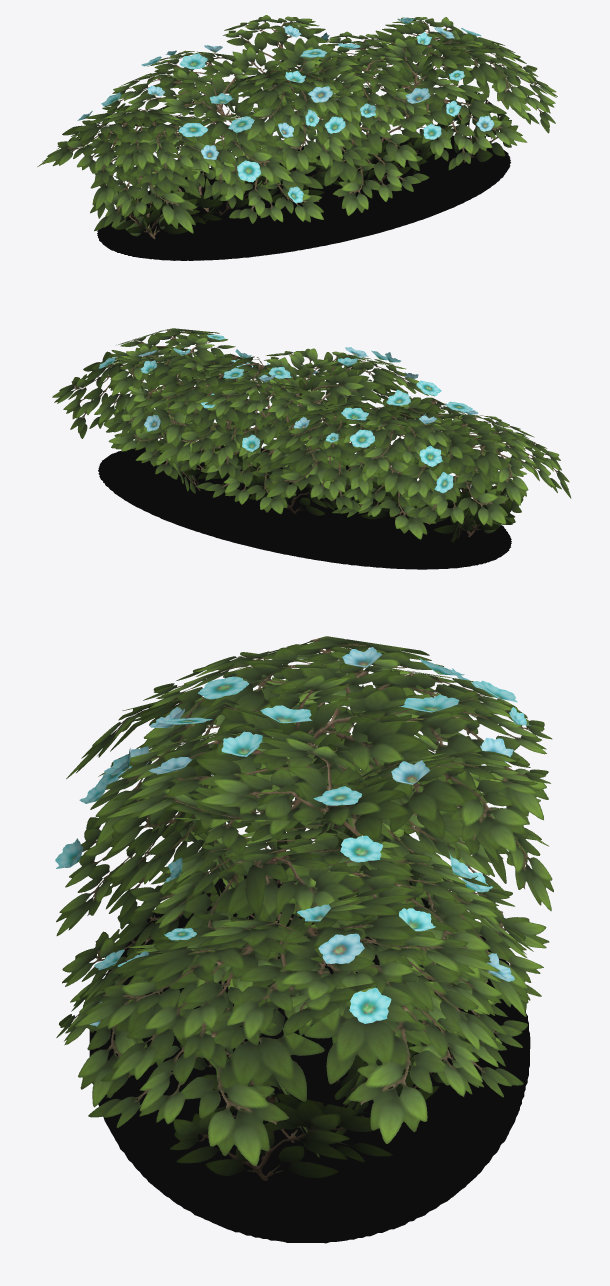
The model's file is syj_hua04.FBX.
3 views of the same model, one above another, from view 1: azimuth 30°, elevation 25°; view 2: azimuth 150°, elevation 25°; view 3: azimuth 270°, elevation 25° (orthographic). The views are drawn at different scales.
Visible parts, largest first — view 1: jj_tyhua04, shadow; view 2: jj_tyhua04, shadow; view 3: jj_tyhua04, shadow.
Boxes of the visible parts, x1,y1,x2,y2 form: jj_tyhua04: [37, 15, 557, 239]; shadow: [97, 135, 510, 260]; jj_tyhua04: [52, 328, 571, 543]; shadow: [98, 444, 511, 569]; jj_tyhua04: [55, 636, 553, 1180]; shadow: [89, 875, 530, 1243].
Size of the model in its own units: 259 by 78.68 by 119.
